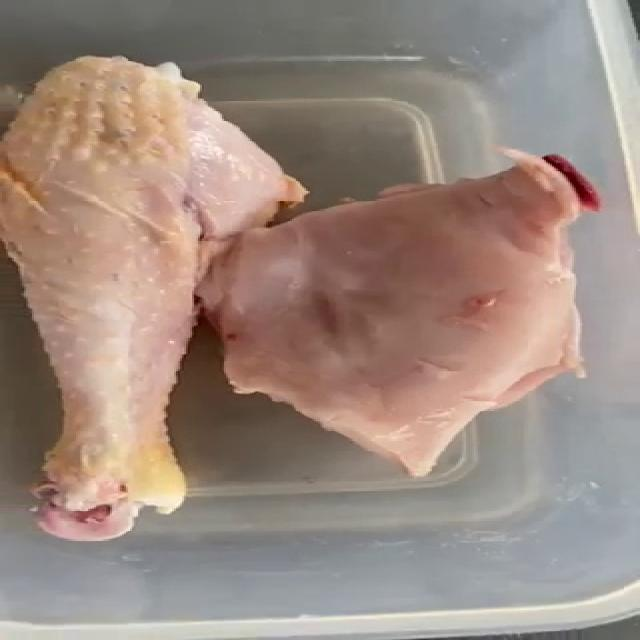chicken: (0, 53, 308, 542), (194, 144, 600, 479)
